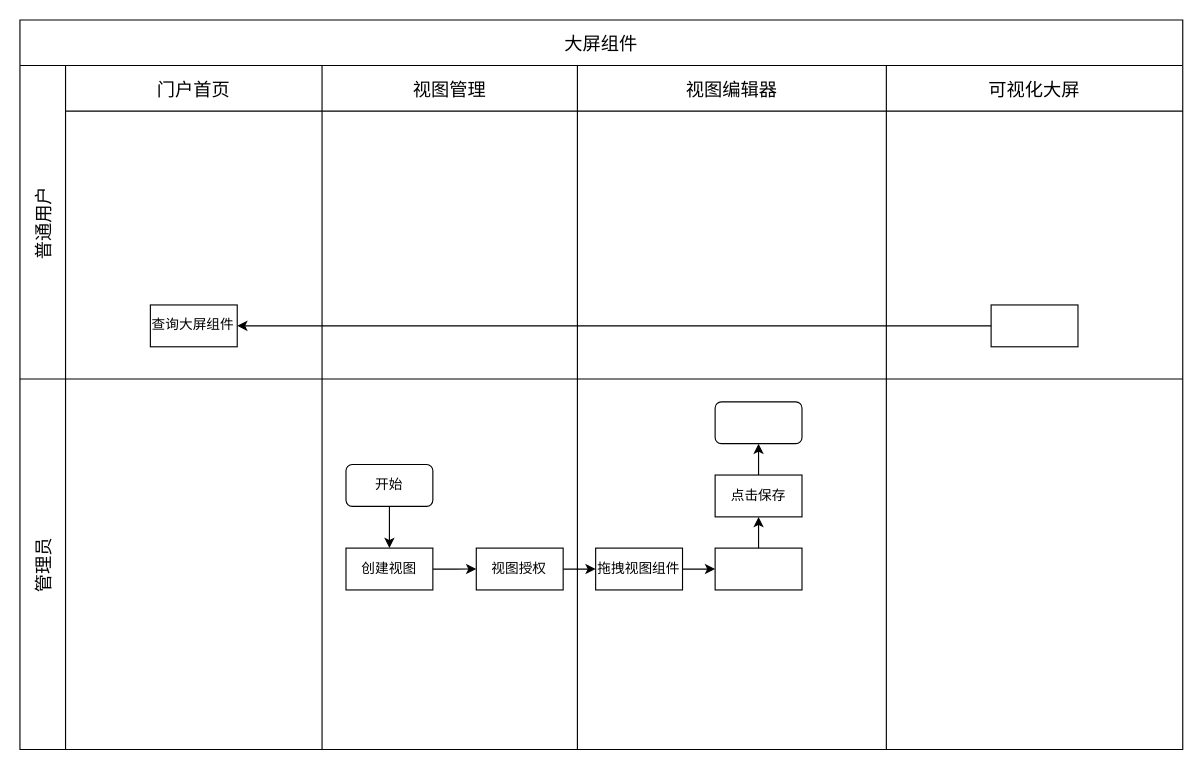
This 1203x770 diagram has some shape labels left out. The centre of each missing label's shape, as x and y in pixels:
"根据当前用户权限查询数据" belongs at pixel 1034 325.
"组件配置" belongs at pixel 758 568.
"自定义视图完成" belongs at pixel 758 422.
